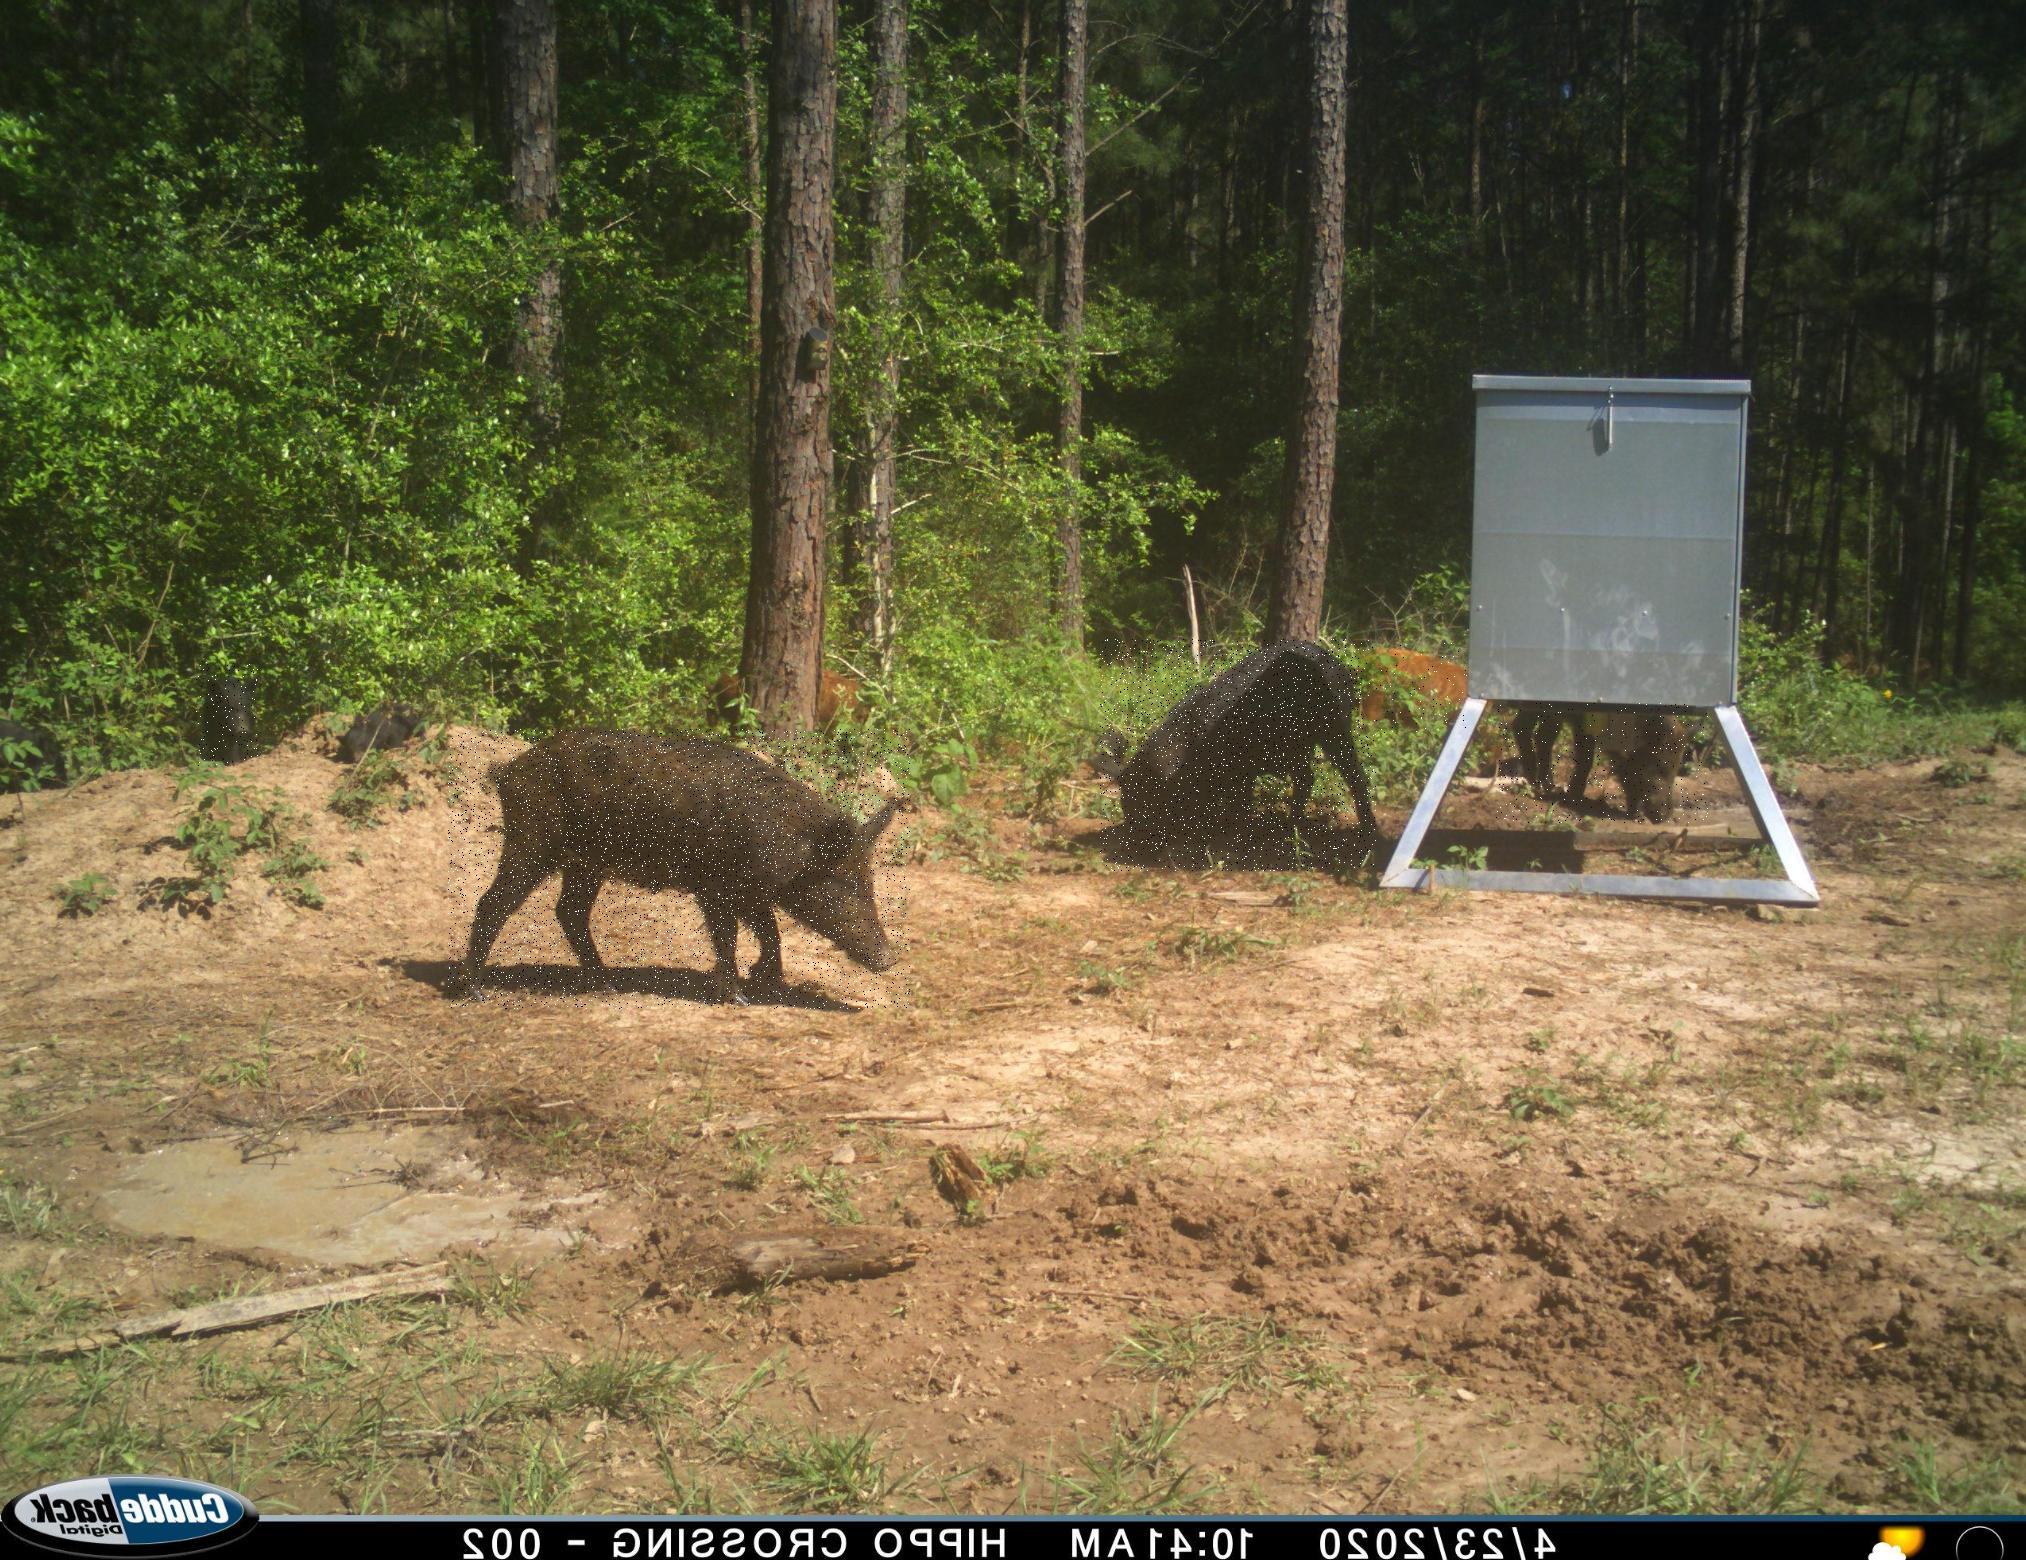Hog: (447, 729, 911, 1009), (1101, 639, 1376, 872), (1495, 703, 1708, 823), (1363, 642, 1467, 734), (197, 662, 259, 765)
